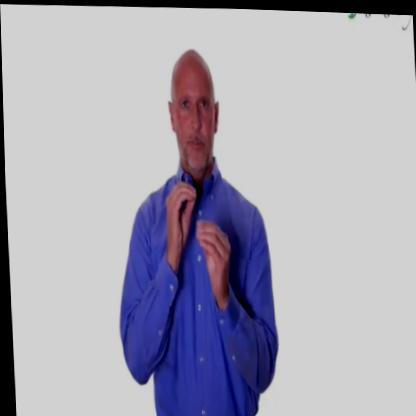Fix: (158, 175, 235, 309)
